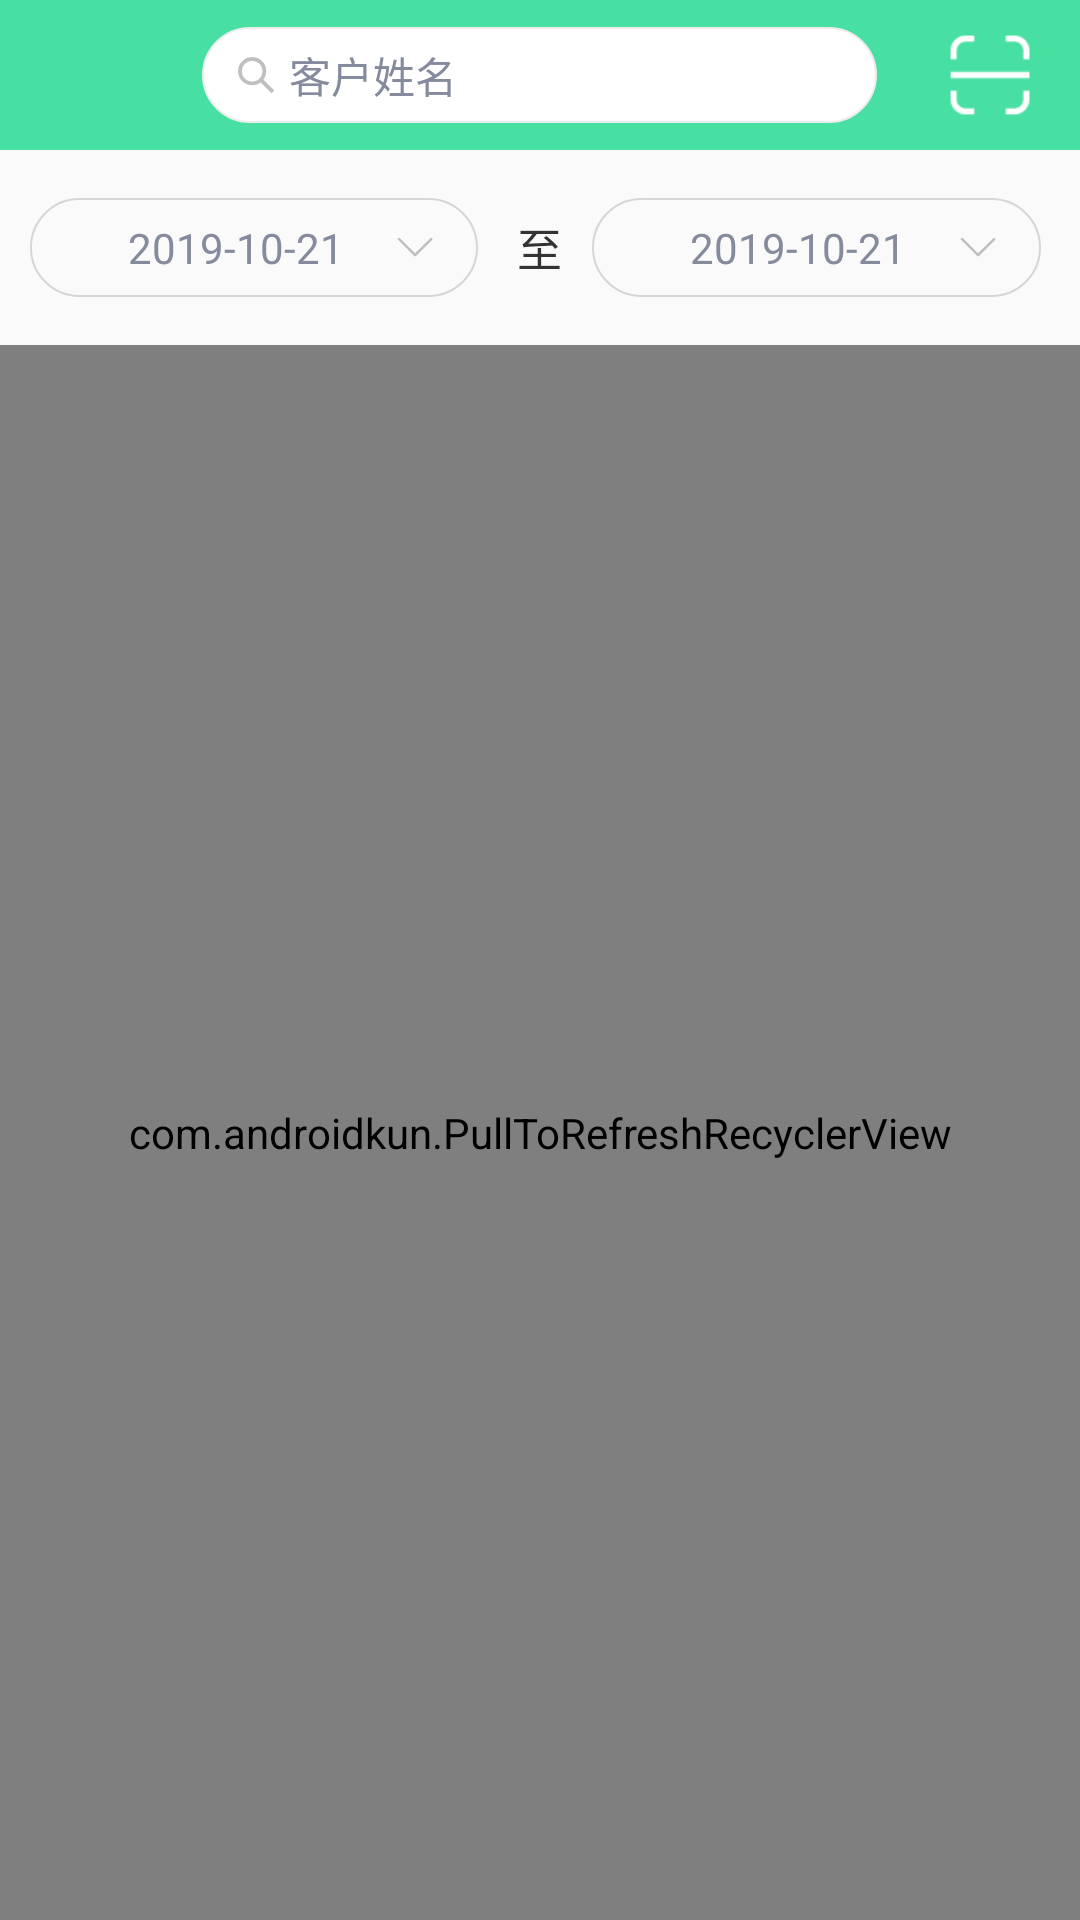

Point at icon controls on the screen. Image size 1080 x 1920, points as point (x, y).
arrow bottom: point (415, 247), point (978, 247)
scane code: point (990, 75)
search: point (256, 75)
